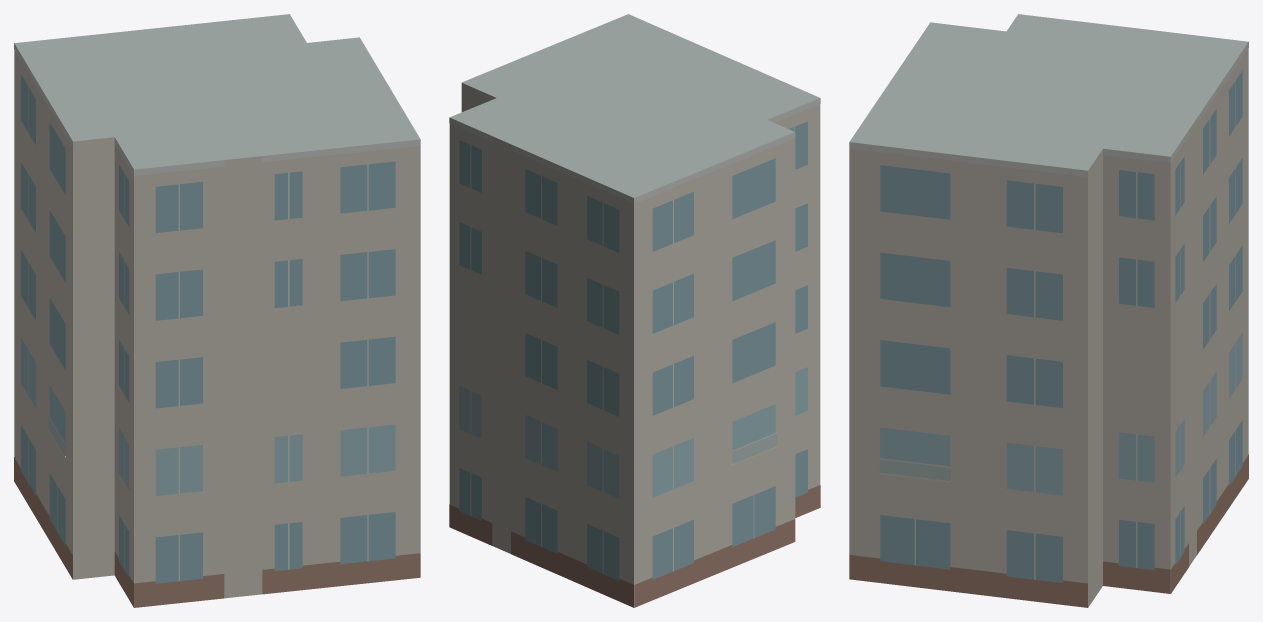
Rendered from survey-upis-33020976.glb.
3 views of the same model, side by side, from view 1: azimuth 30°, elevation 25°; view 2: azimuth 150°, elevation 25°; view 3: azimuth 270°, elevation 25° (orthographic). The views are drawn at different scales.
Parts seen in each view (by area): view 1: survey-upis-33020976.tmp; view 2: survey-upis-33020976.tmp; view 3: survey-upis-33020976.tmp.
Part boxes in pixels (bbox=[...]): survey-upis-33020976.tmp: bbox=[14, 14, 420, 607]; survey-upis-33020976.tmp: bbox=[449, 14, 820, 607]; survey-upis-33020976.tmp: bbox=[849, 14, 1248, 607].
Bounding box in the file's own units: 12.96 × 16.85 × 13.96.
